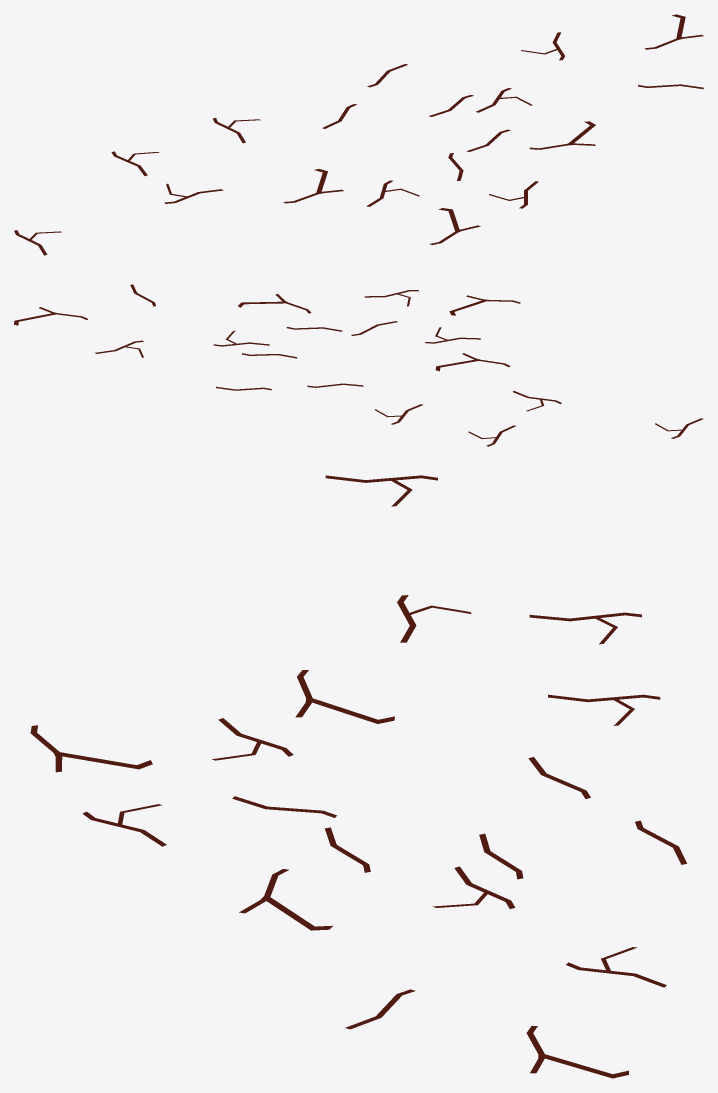
The model's file is Stick_04.fbx.
3 renders of one model, top to bottom at view 1: azimuth 30°, elevation 25°; view 2: azimuth 150°, elevation 25°; view 3: azimuth 270°, elevation 25°, orthographic. The views are drawn at different scales.
Visible parts, largest first — view 1: Stick_04; view 2: Stick_04; view 3: Stick_04.
Boxes of the visible parts, x1,y1,x2,y2 form: Stick_04: (14, 14, 703, 255); Stick_04: (14, 284, 703, 446); Stick_04: (30, 475, 686, 1078).
Size of the model in its own units: 770 by 3.65 by 354.
